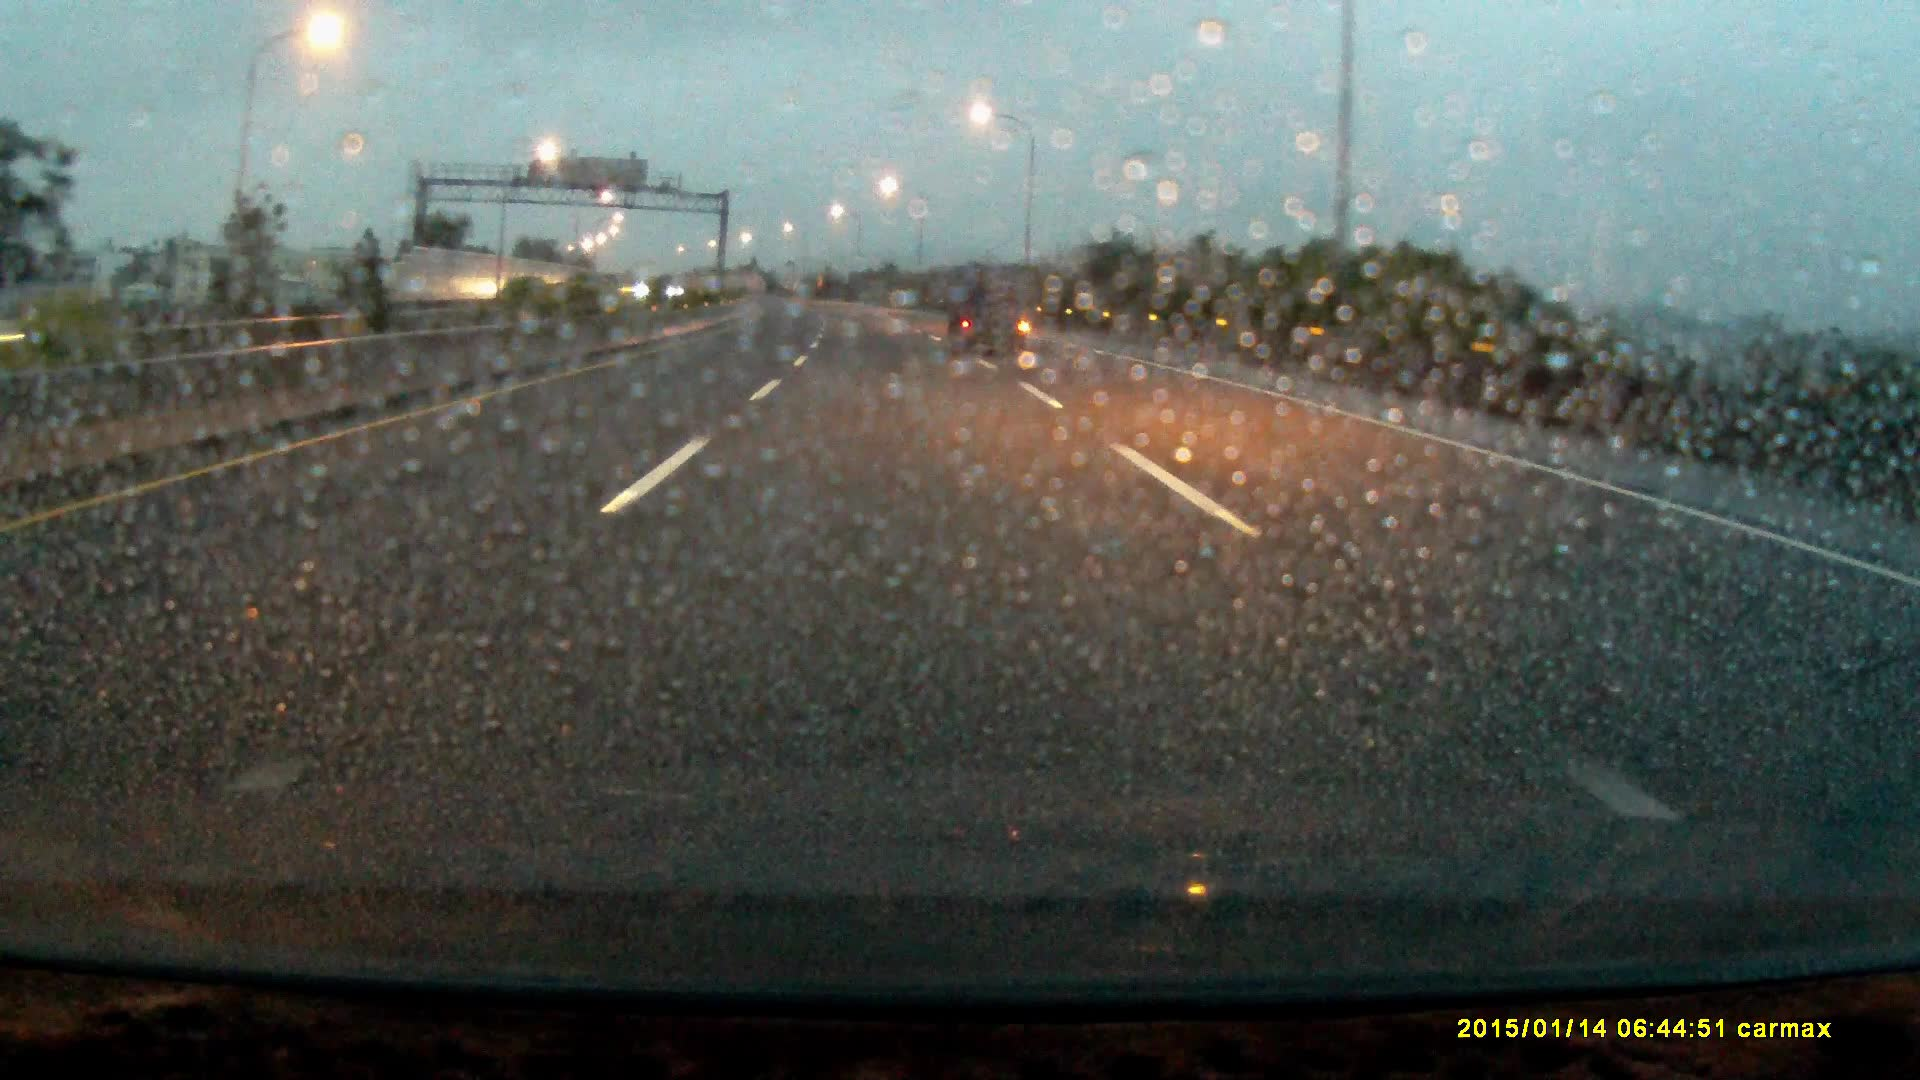vehicle: (945, 272, 1033, 359)
